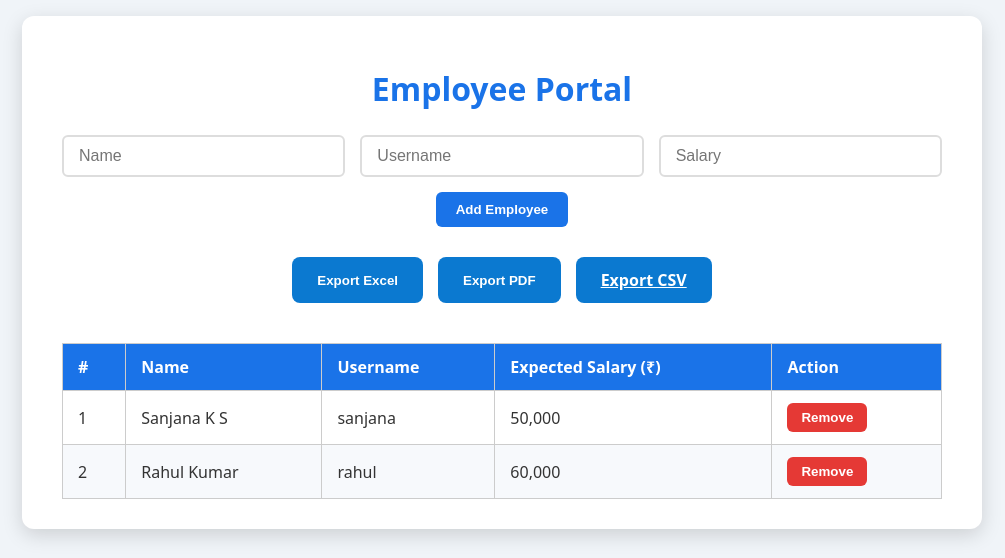
Test: App › can remove an employee
Click the button "Remove" in the row of "Sanjana K S" at (827, 418), box [788,403,867,432]
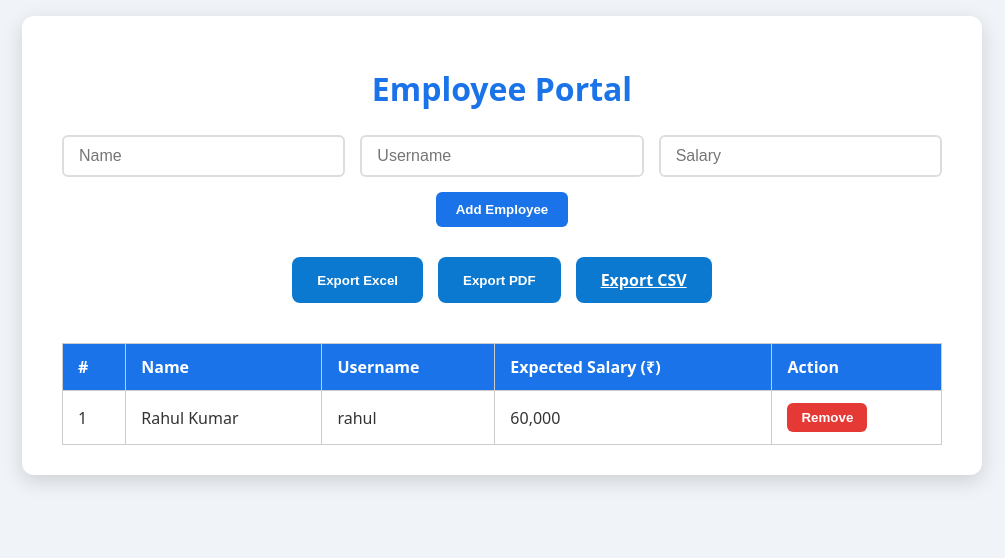
Expected: the number of buttons "Remove" is 1, [788,403,867,432]
